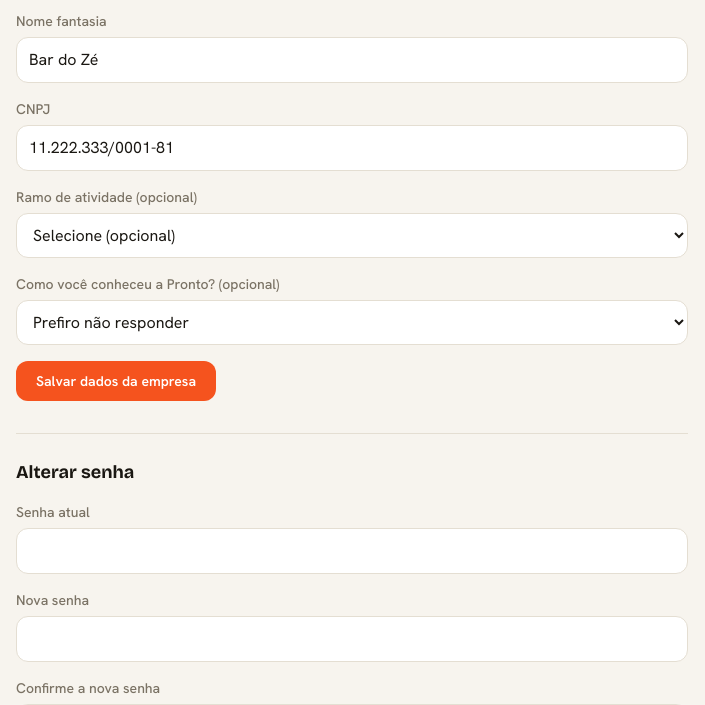
Test: PerfilPage › mostra erro da API ao falhar salvar dados da empresa
(page scrolled)
What coordinates should you click on to do the following:
click the button "Salvar dados da empresa"
I would click on:
 (116, 381)
Its box is [16,361,216,401].
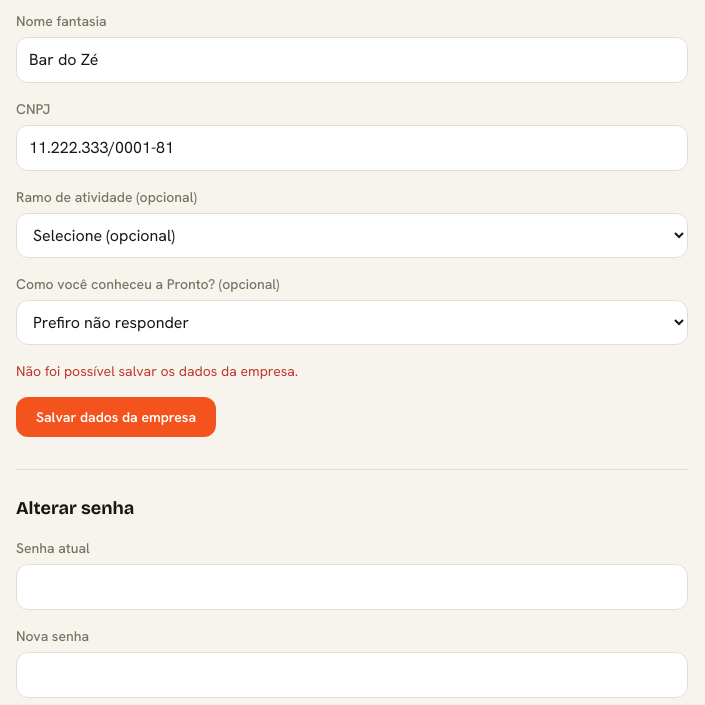
Now the text "Não foi possível salvar os dados da empresa." is shown, box [16,362,298,380]
